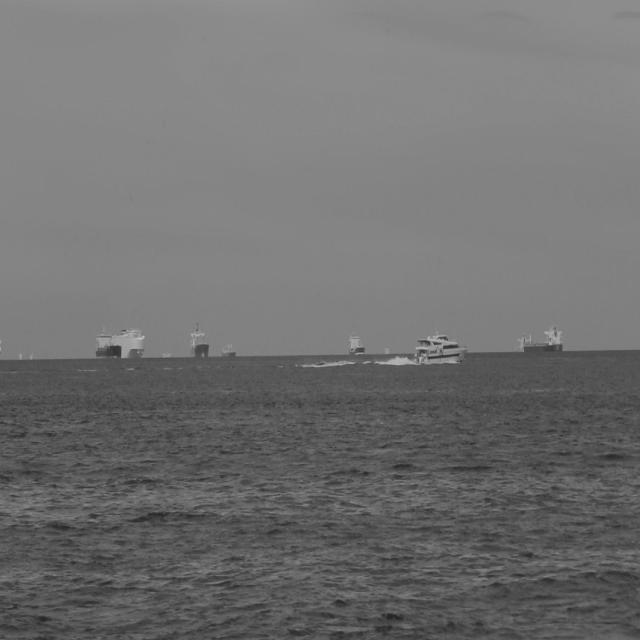ship: (409, 328, 469, 364), (512, 322, 564, 354), (108, 324, 143, 361), (186, 324, 207, 363), (93, 332, 120, 360), (343, 328, 365, 356)
